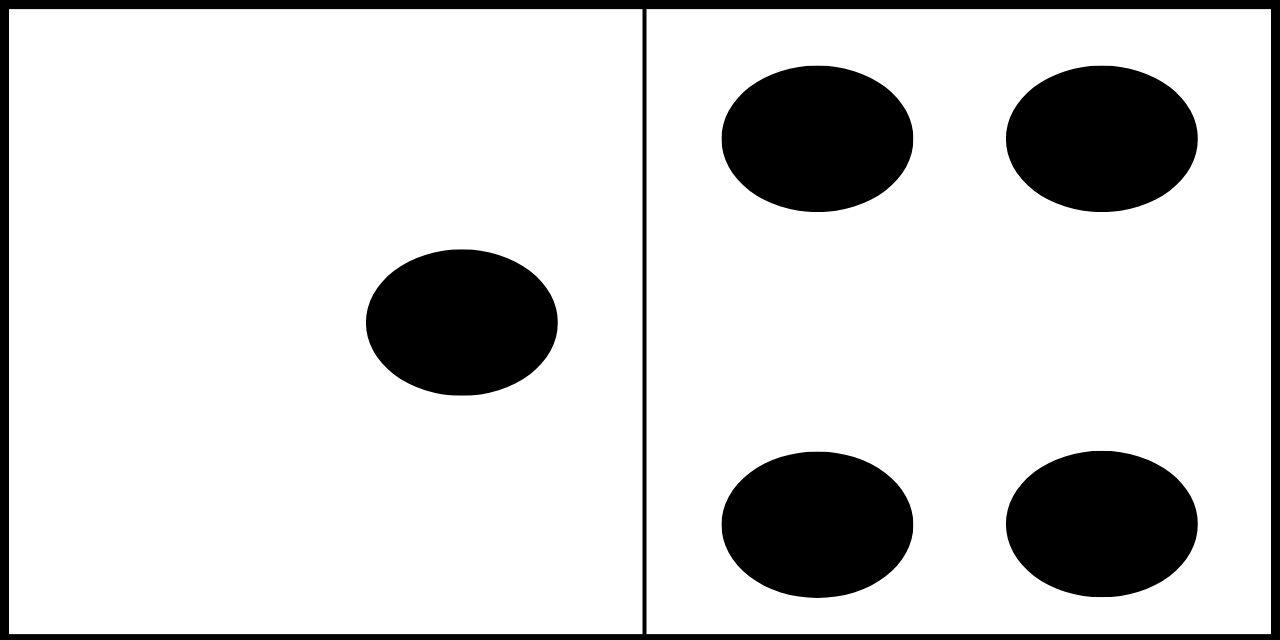dot_5: (93, 67, 562, 596)
two_cell_alphabet_eksamen: (721, 66, 1198, 597)
